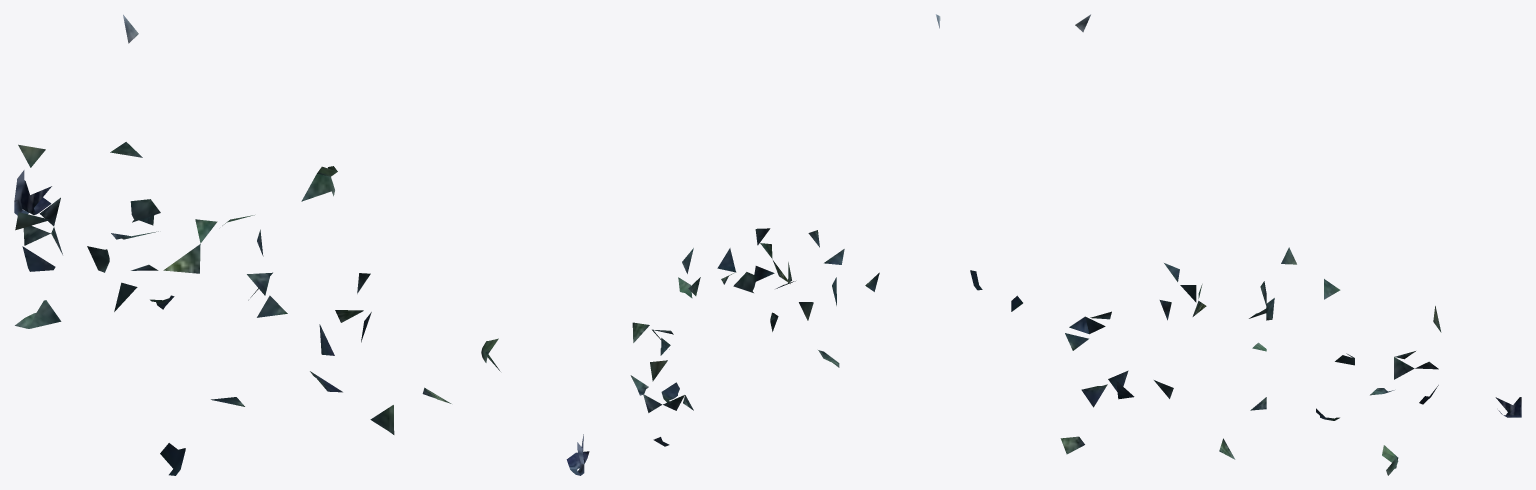
3 views of the same model, side by side, from view 1: azimuth 30°, elevation 25°; view 2: azimuth 150°, elevation 25°; view 3: azimuth 270°, elevation 25° (orthographic). The views are drawn at different scales.
Visible parts, largest first — view 1: 30436272704370436534_1; view 2: 30436272704370436534_1; view 3: 30436272704370436534_1.
Part boxes in pixels (bbox=[...]): 30436272704370436534_1: bbox=[14, 14, 451, 475]; 30436272704370436534_1: bbox=[481, 14, 982, 475]; 30436272704370436534_1: bbox=[1011, 14, 1521, 475].
Bounding box in the file's own units: 26.69 × 28.04 × 38.26.
1 material, 1 textured.
